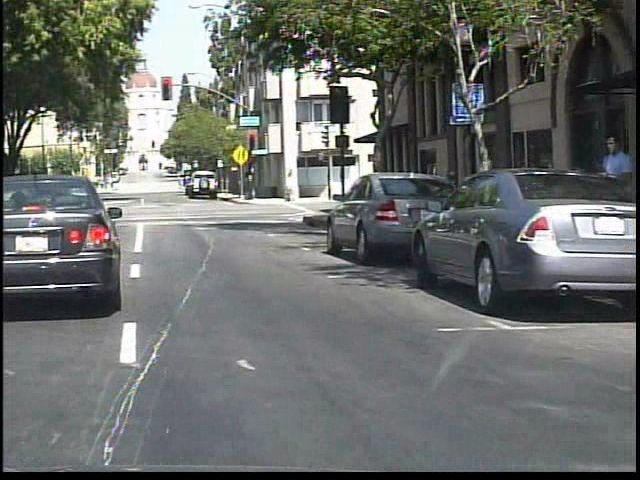person: (590, 133, 635, 274), (15, 173, 35, 210), (2, 175, 19, 211)
